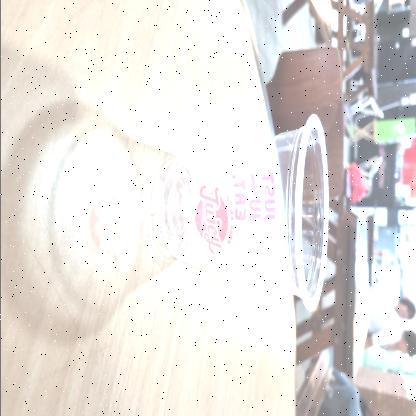Others: (152, 114, 327, 312)
